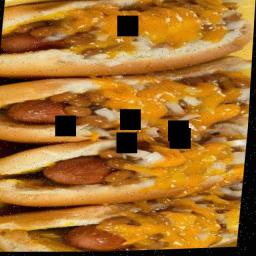hotdog: (0, 60, 253, 151), (0, 130, 249, 217), (0, 0, 256, 78), (0, 201, 243, 256)
